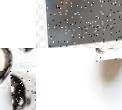ironball: (42, 0, 121, 48), (8, 69, 36, 109), (0, 48, 11, 94), (92, 48, 121, 63), (13, 48, 36, 59)
